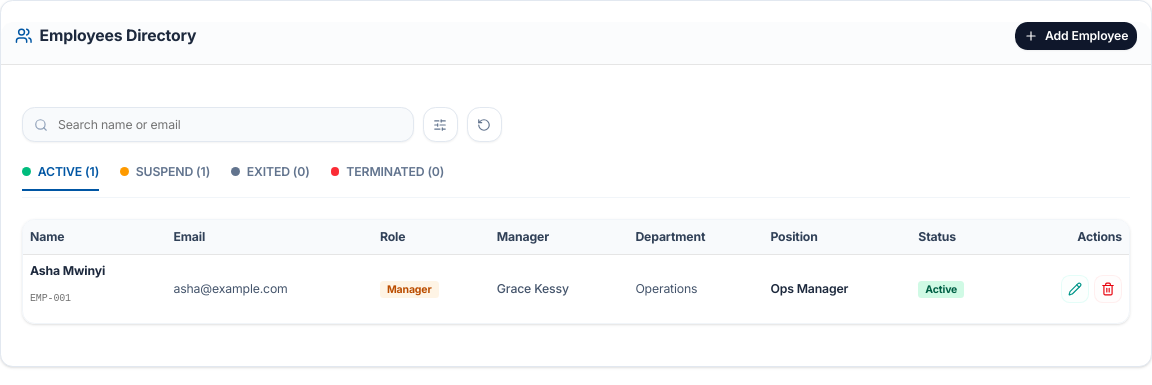
Test: HRStaffSubtab › resets search, role/date filters and the active tab via the reset button
The width and height of the screenshot is (1152, 385).
Type "no-match" into the field with placeholder "Search name or email". click: (218, 124)
box: left=22, top=107, right=414, bottom=142
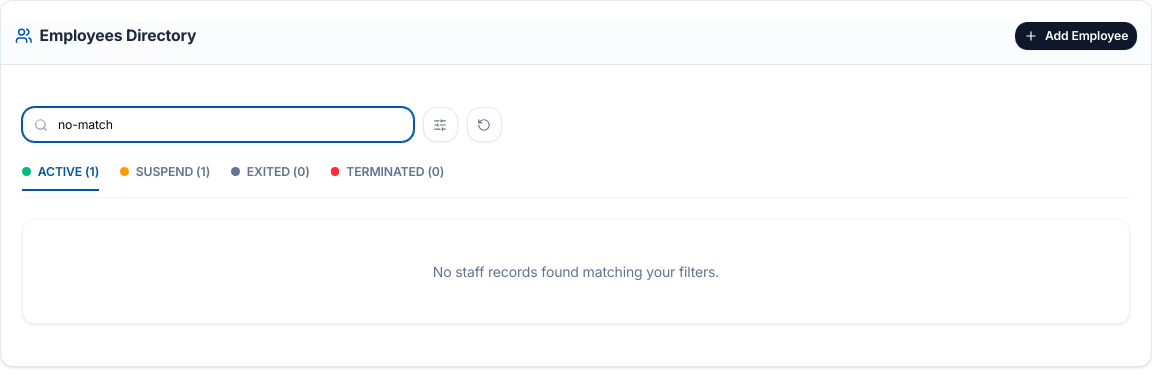
Click the button "SUSPEND (1)". click: (165, 177)
box: left=120, top=163, right=210, bottom=191
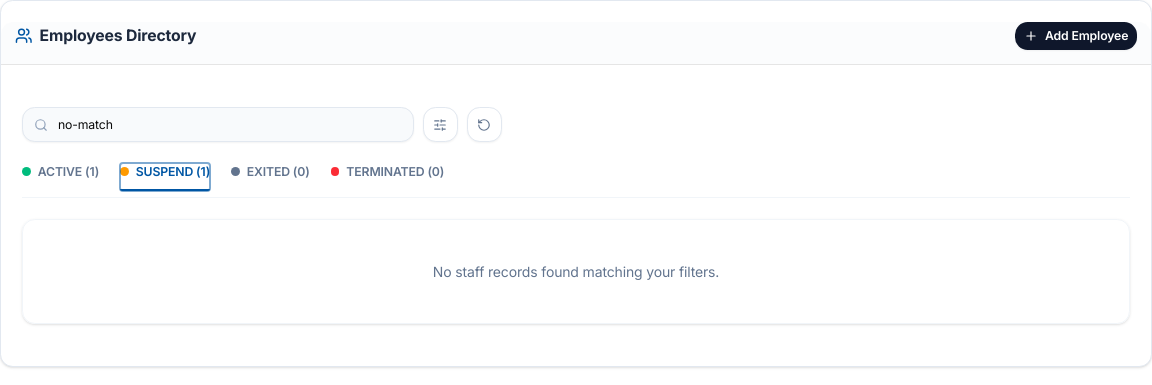
Click the button with class "lucide-rotate-ccw". click: (484, 124)
box: left=466, top=107, right=502, bottom=142
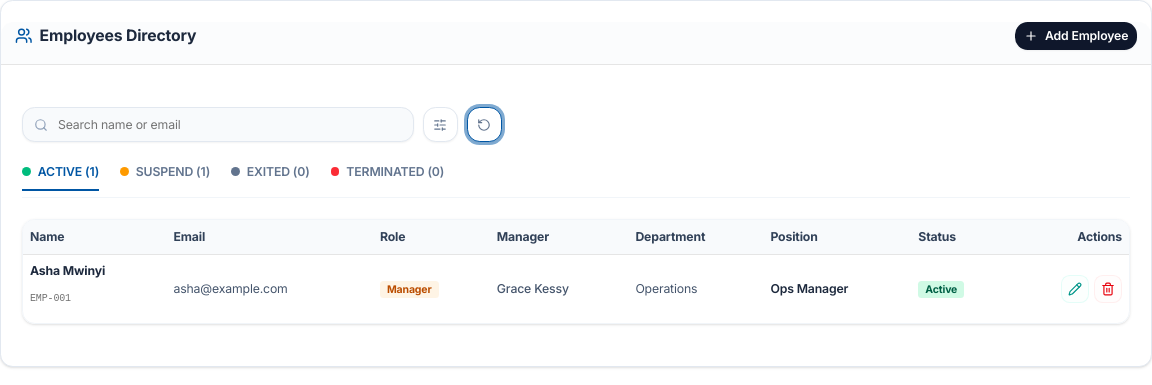
Expected: the field with placeholder "Search name or email" is empty, left=22, top=107, right=414, bottom=142
Expected: the text "Asha Mwinyi" is shown, left=30, top=263, right=105, bottom=278
